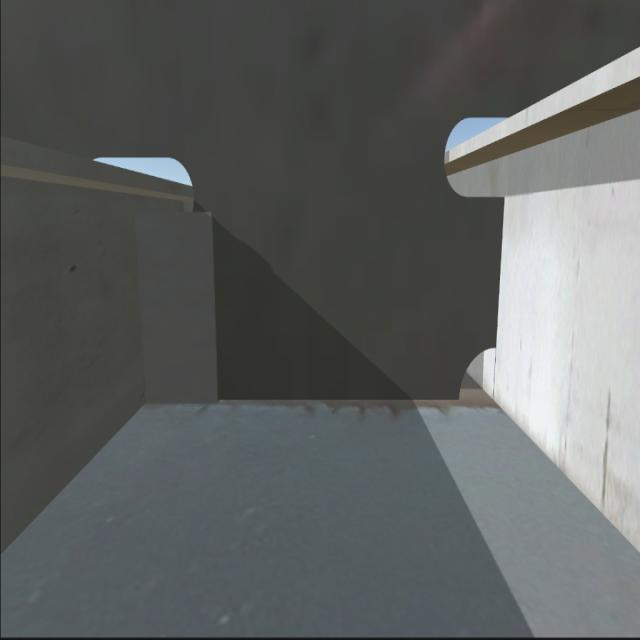fillet_hole: (454, 343, 496, 402)
fillet_yong_jeop_jang: (146, 398, 459, 404)
longi_yong_jeop_jang: (136, 208, 150, 402), (496, 195, 510, 345)
plate_CP01: (140, 213, 214, 394)
